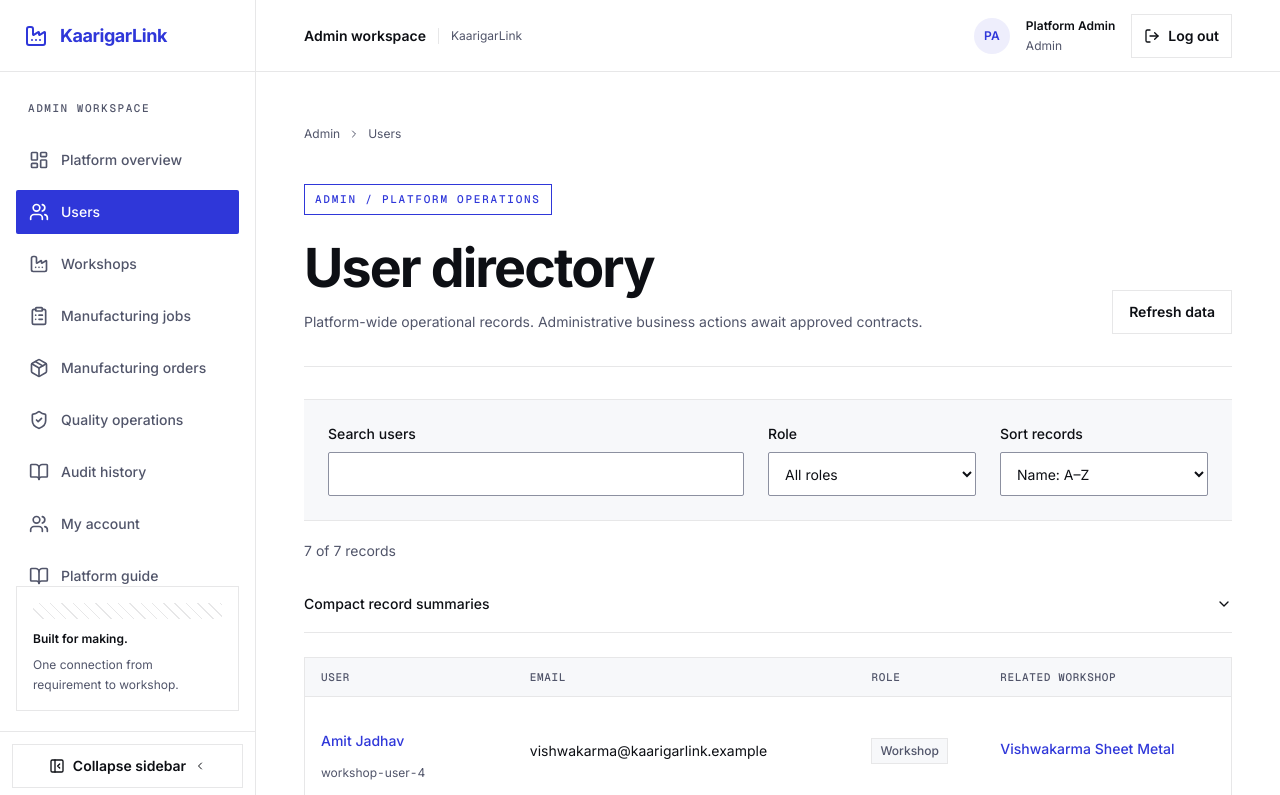
searches, filters and sorts users, then shows an account without unsupported actions
Expected: the text "7 of 7 records" is shown, [304,542,396,559]
Select "Buyer" in the dropdown labelled "Role": (872, 474) [768,452,976,496]
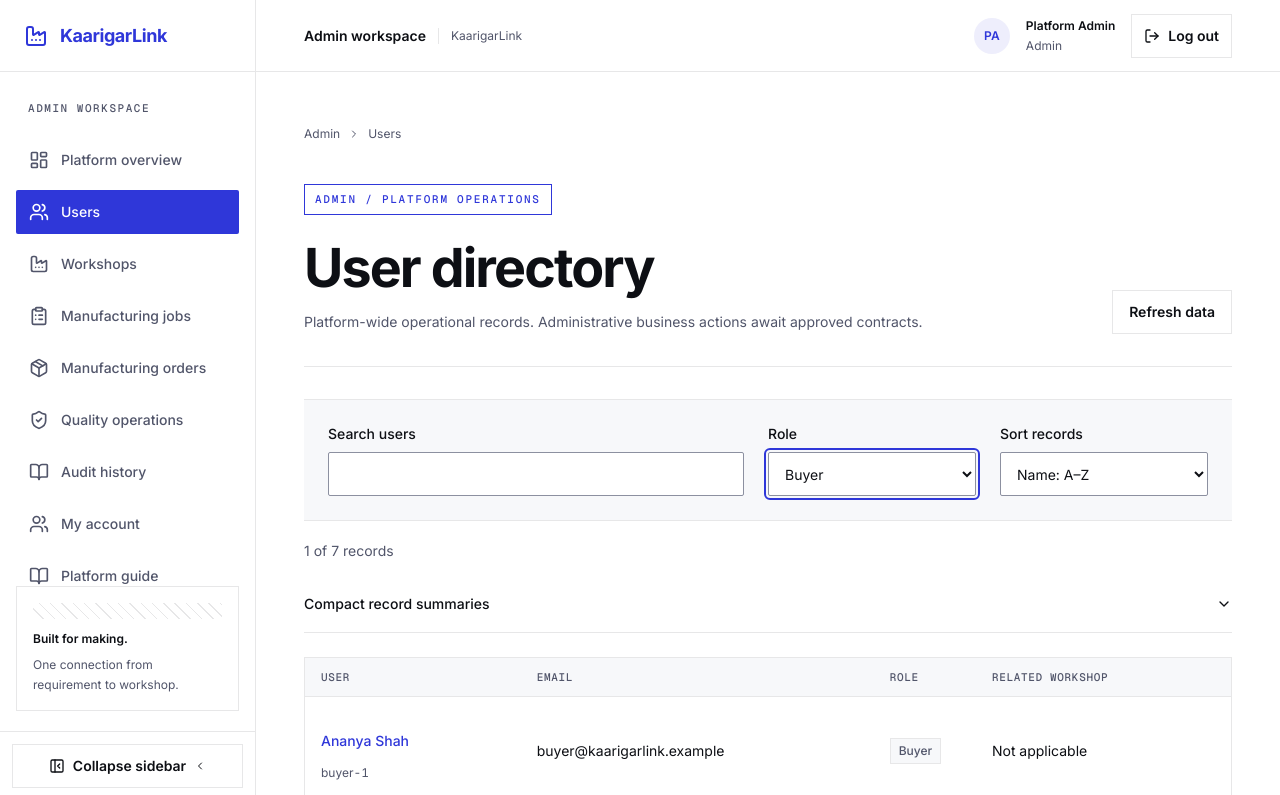
Expected: the text "1 of 7 records" is shown, [304,542,394,559]
In the search field labelled "Search users": (536, 474) [328,452,744,496], type "Ananya"
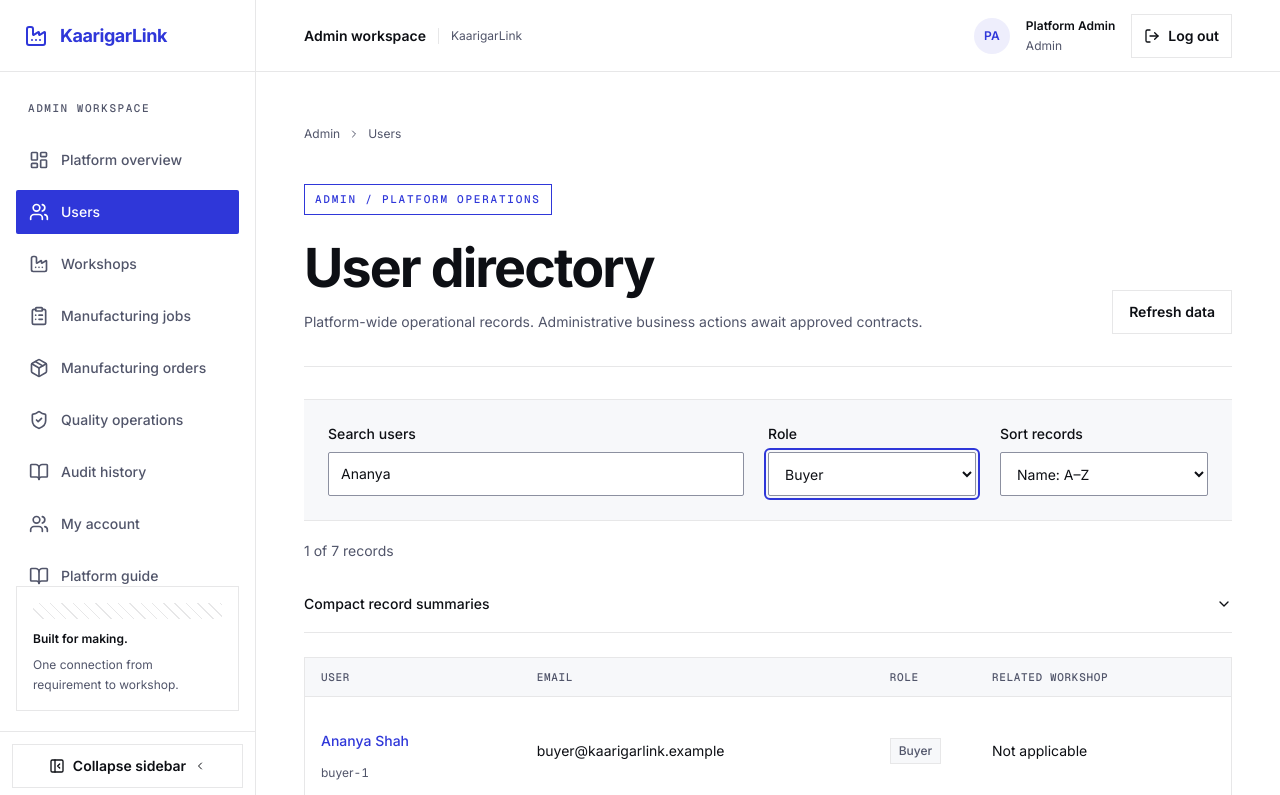
Click the link "Ananya Shah": (365, 741) [321,732,409,749]
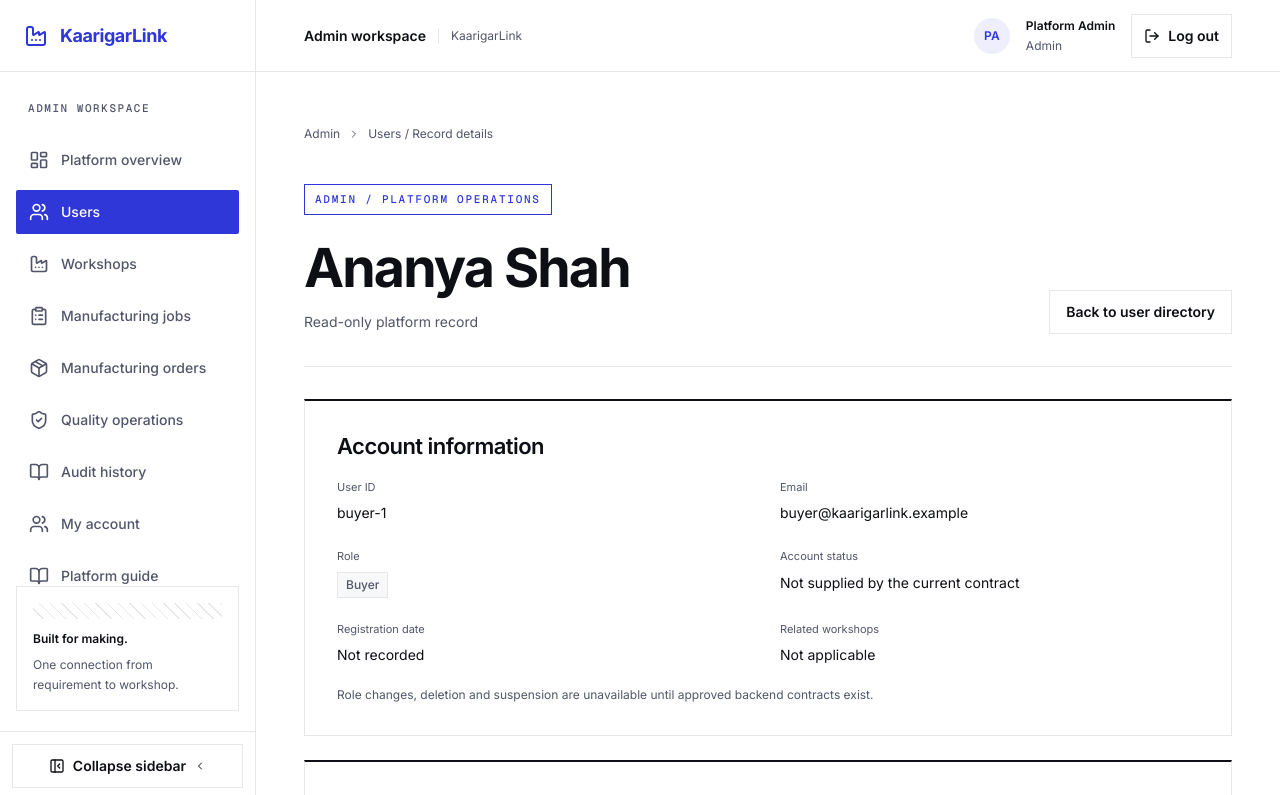
Expected: the heading "Ananya Shah" is shown, [304,238,630,296]
Expected: the text "Not supplied by the current contract" is shown, [780,574,1020,591]
Expected: the button "Search users Role Sort records" is gone
